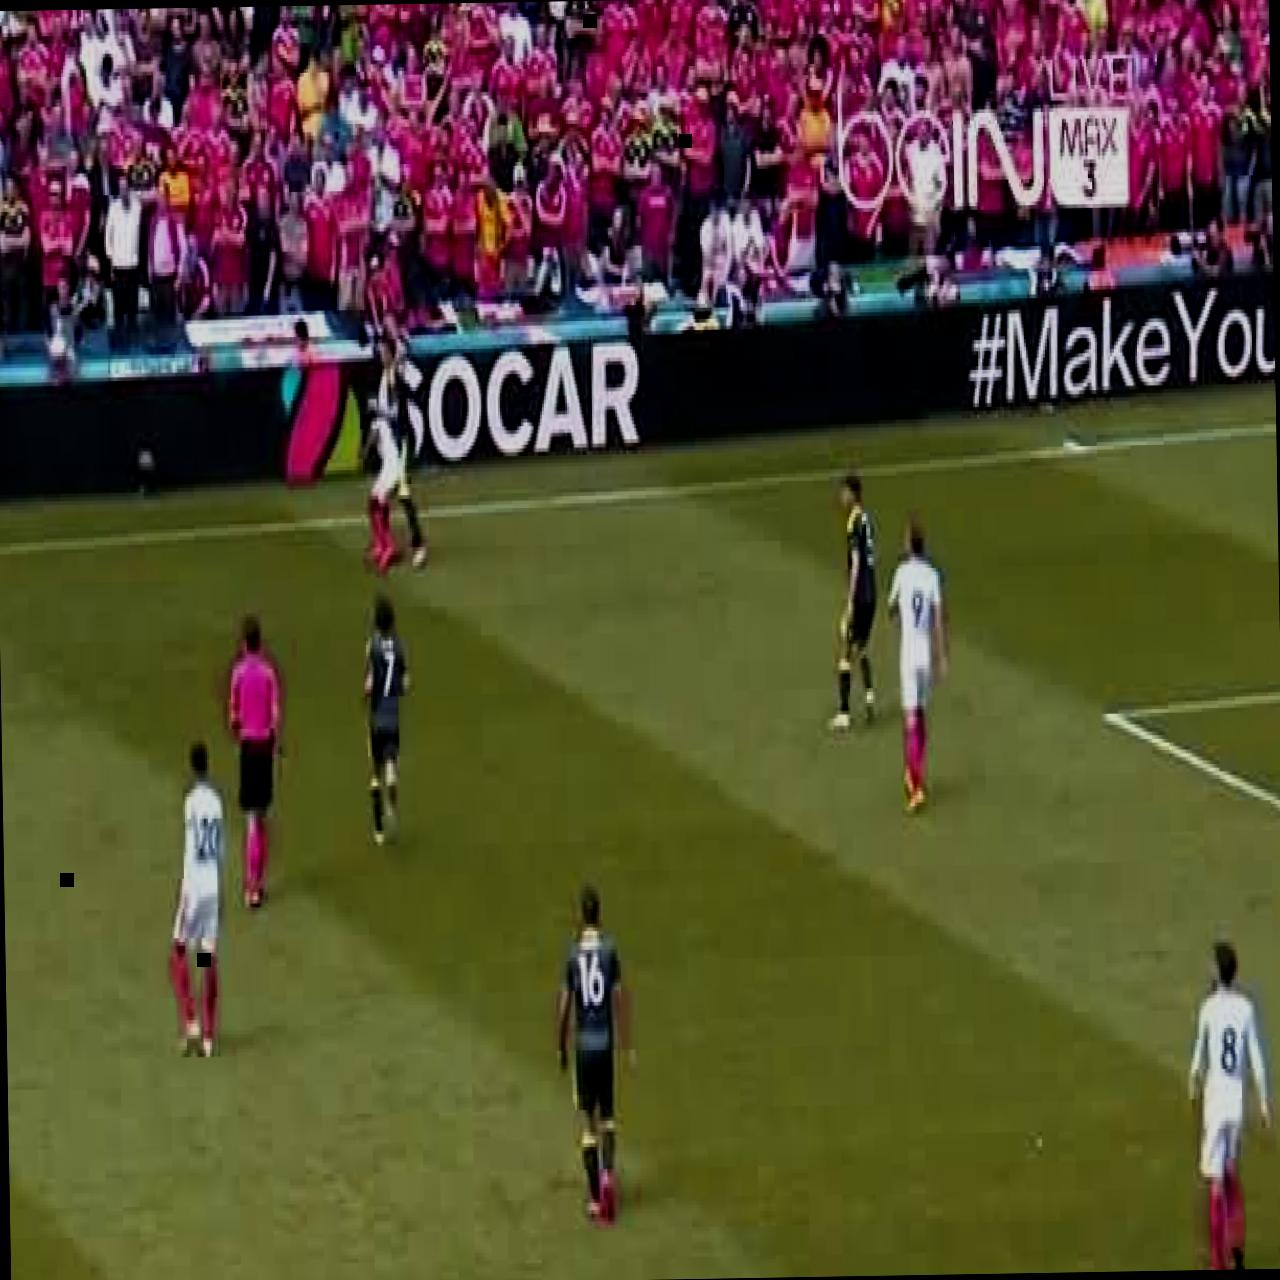football: (1183, 938, 1272, 1270), (550, 886, 627, 1224), (167, 742, 231, 1062), (888, 523, 952, 815), (228, 614, 286, 909), (822, 471, 877, 737), (361, 590, 413, 844), (373, 329, 427, 573), (362, 400, 401, 566)
